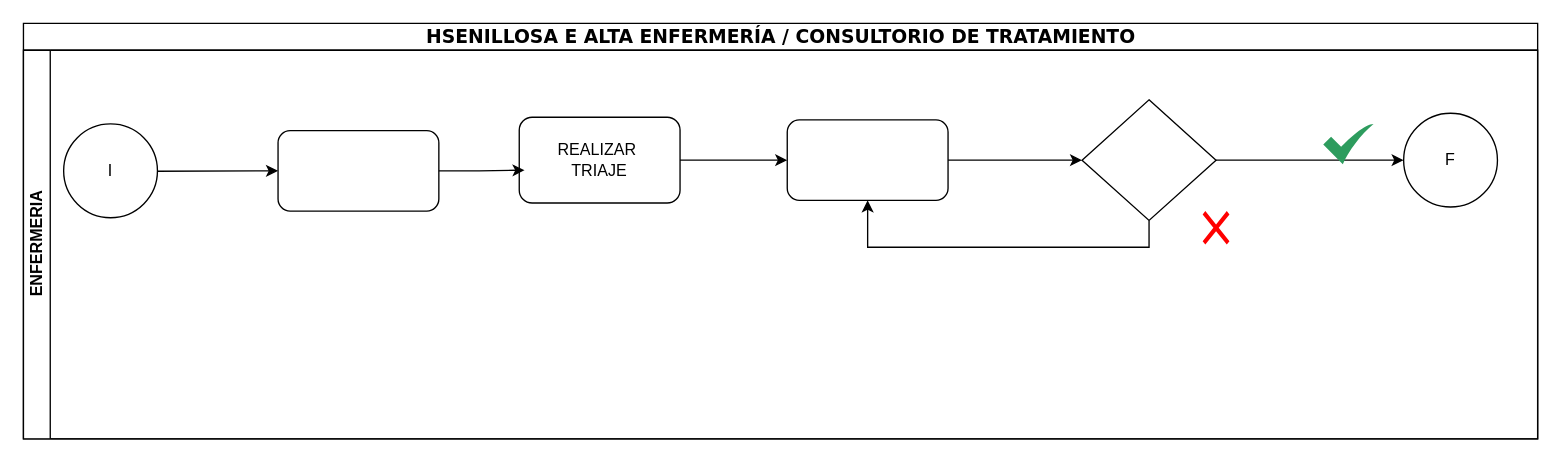
The diagram is 1561 pixels wide and 462 high, and some of its shapes have lost their labels. The box of each missing label's shape, as (x1, y1, x2, y2) in pixels:
FIN TTO: (1081, 98, 1216, 220)
REALIZAR TTO: (786, 119, 948, 200)
RECEPCIONAR PACIENTES: (277, 129, 439, 211)
